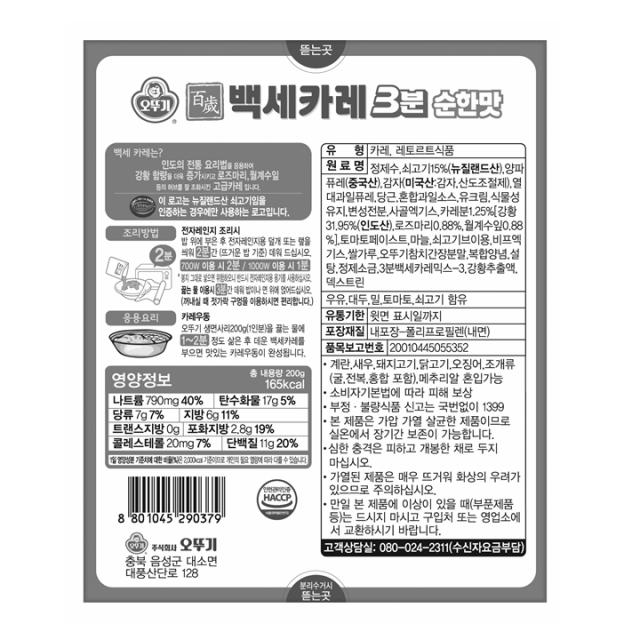Nutrition Label: (80, 352, 322, 481)
